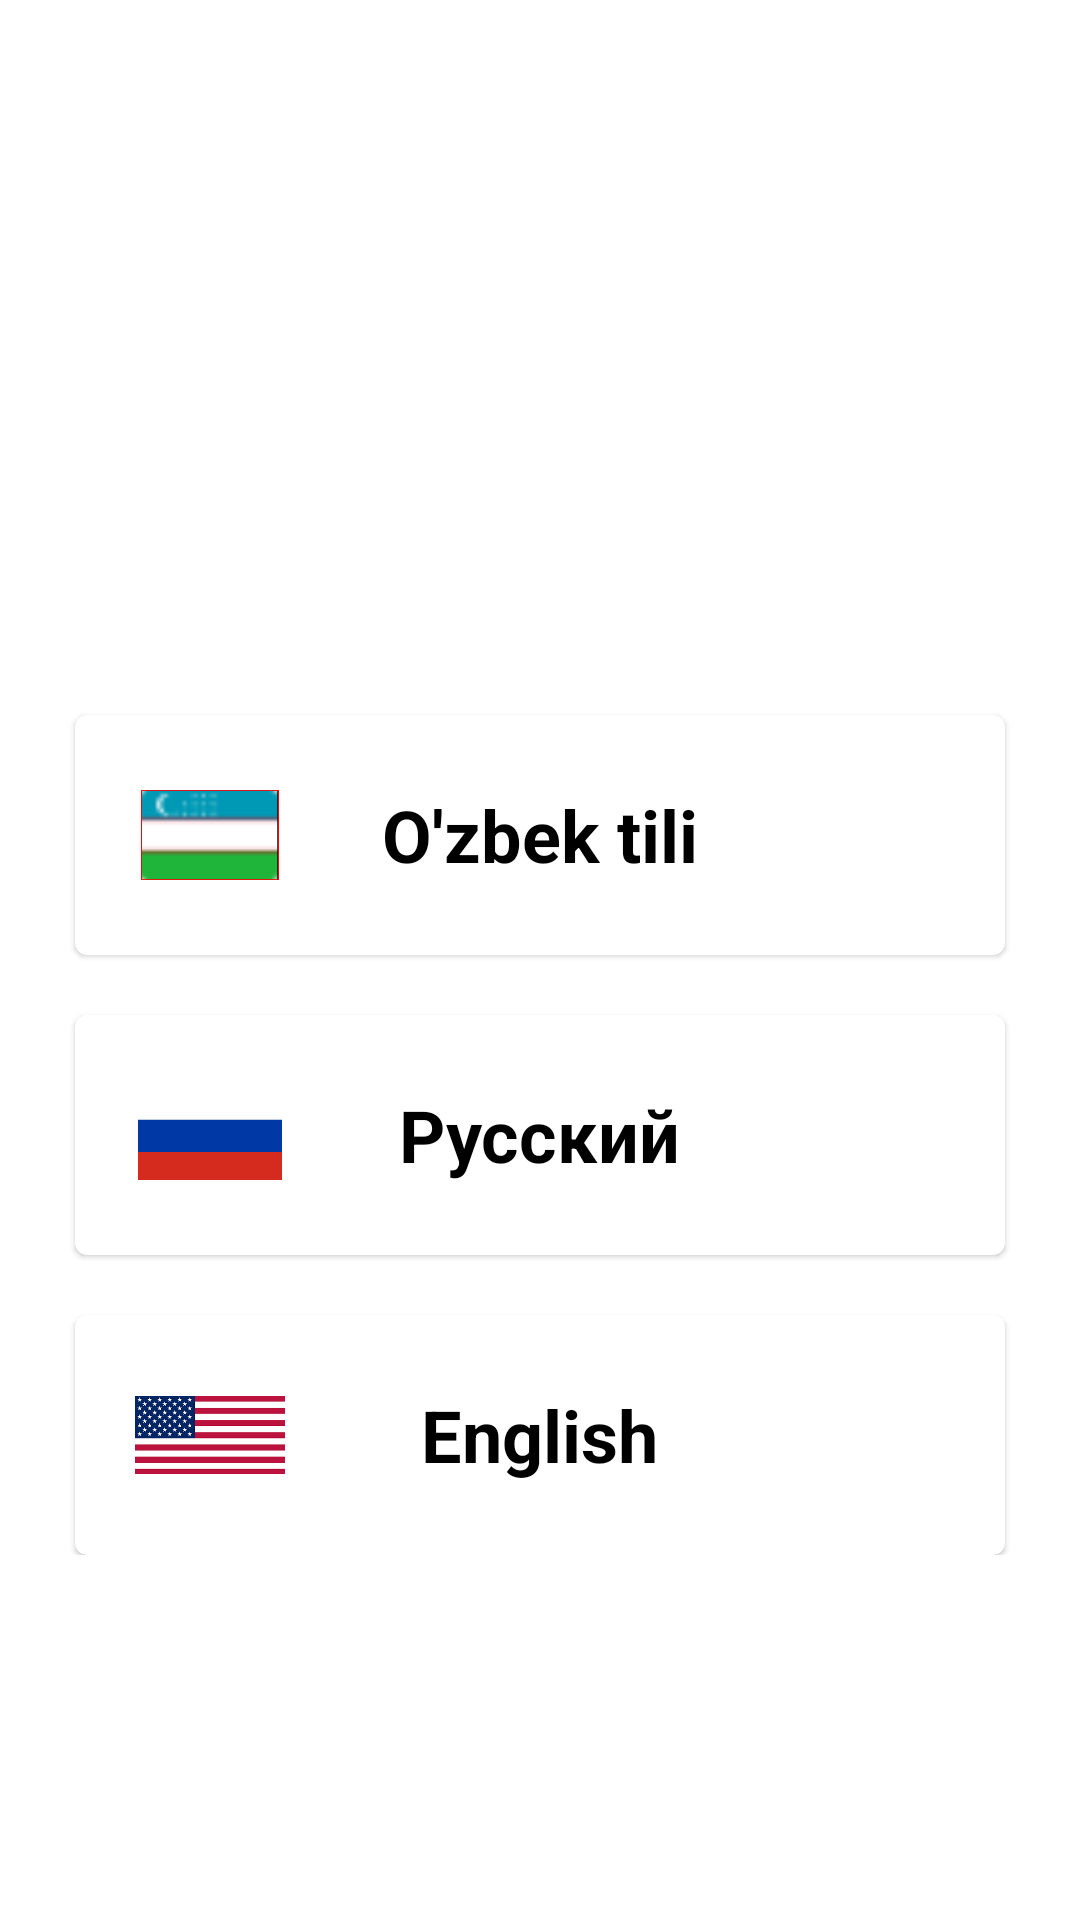

Icons on this 1080w x 1920h Android screen, each with its box as detection(x1, y1, x2, y2):
rusia: detection(138, 1119, 282, 1180)
usa: detection(135, 1396, 285, 1474)
uzb: detection(141, 790, 279, 880)
